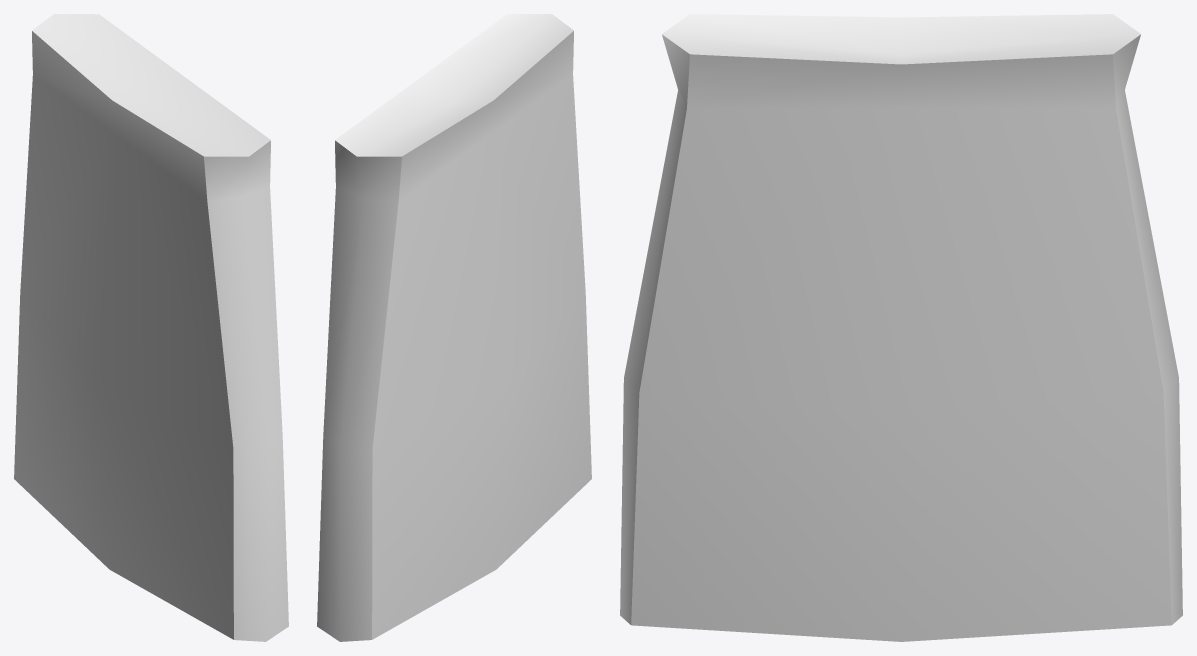
Rendered from vegetable_seeds.fbx.
3 views of the same model, side by side, from view 1: azimuth 30°, elevation 25°; view 2: azimuth 150°, elevation 25°; view 3: azimuth 270°, elevation 25° (orthographic). The views are drawn at different scales.
Visible parts, largest first — view 1: seed_packet:pCube1; view 2: seed_packet:pCube1; view 3: seed_packet:pCube1.
Boxes of the visible parts, x1,y1,x2,y2 form: seed_packet:pCube1: (14, 14, 288, 641); seed_packet:pCube1: (317, 14, 591, 641); seed_packet:pCube1: (620, 14, 1182, 641).
Bounding box in the file's own units: 2.59 × 10.49 × 9.04.
